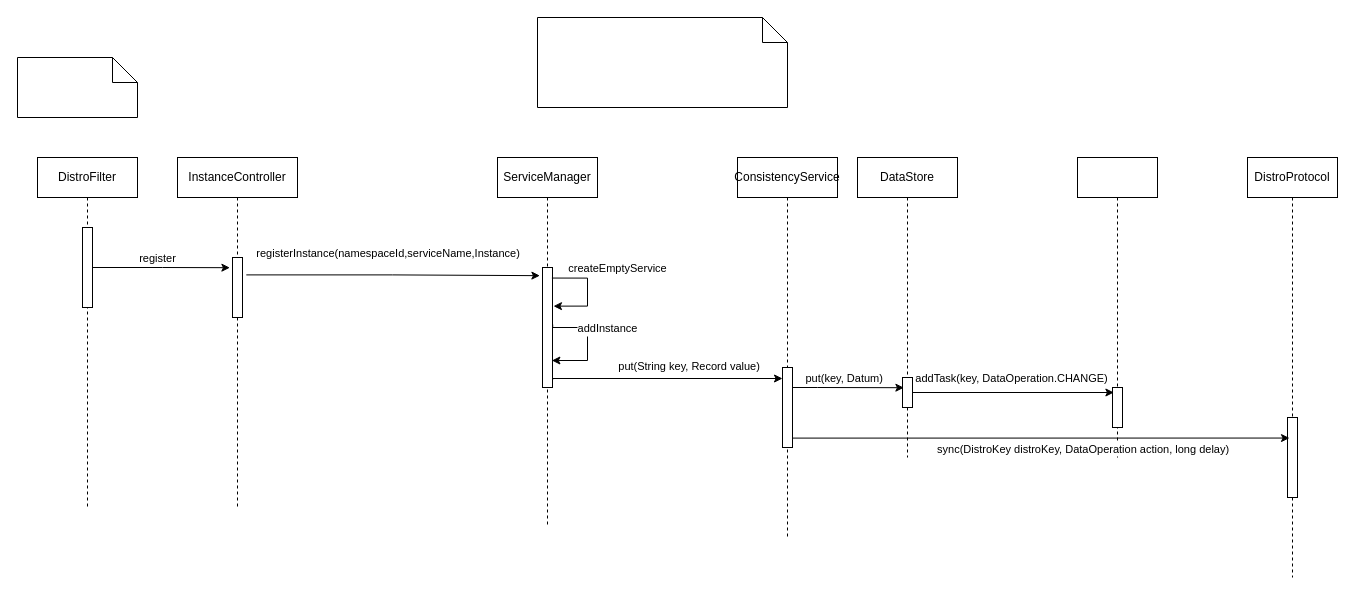
Image size: 1355x595. Some labels were removed from this diagram. The box of each missing label's shape, as (x1, y1, x2, y2) in pixels:
/v1/ns/instance: (16, 56, 138, 118)
key举例：com.alibaba.nacos.naming.iplist.(ephemeral.)${namespaceId}##${serviceName}: (536, 16, 788, 108)
Notifier: (1076, 156, 1158, 458)
